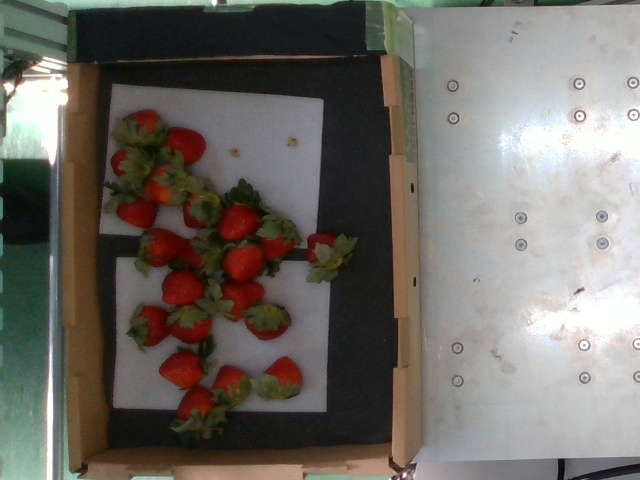strawberry: (142, 164, 191, 204), (135, 306, 176, 345), (171, 307, 214, 344), (221, 200, 259, 241)
